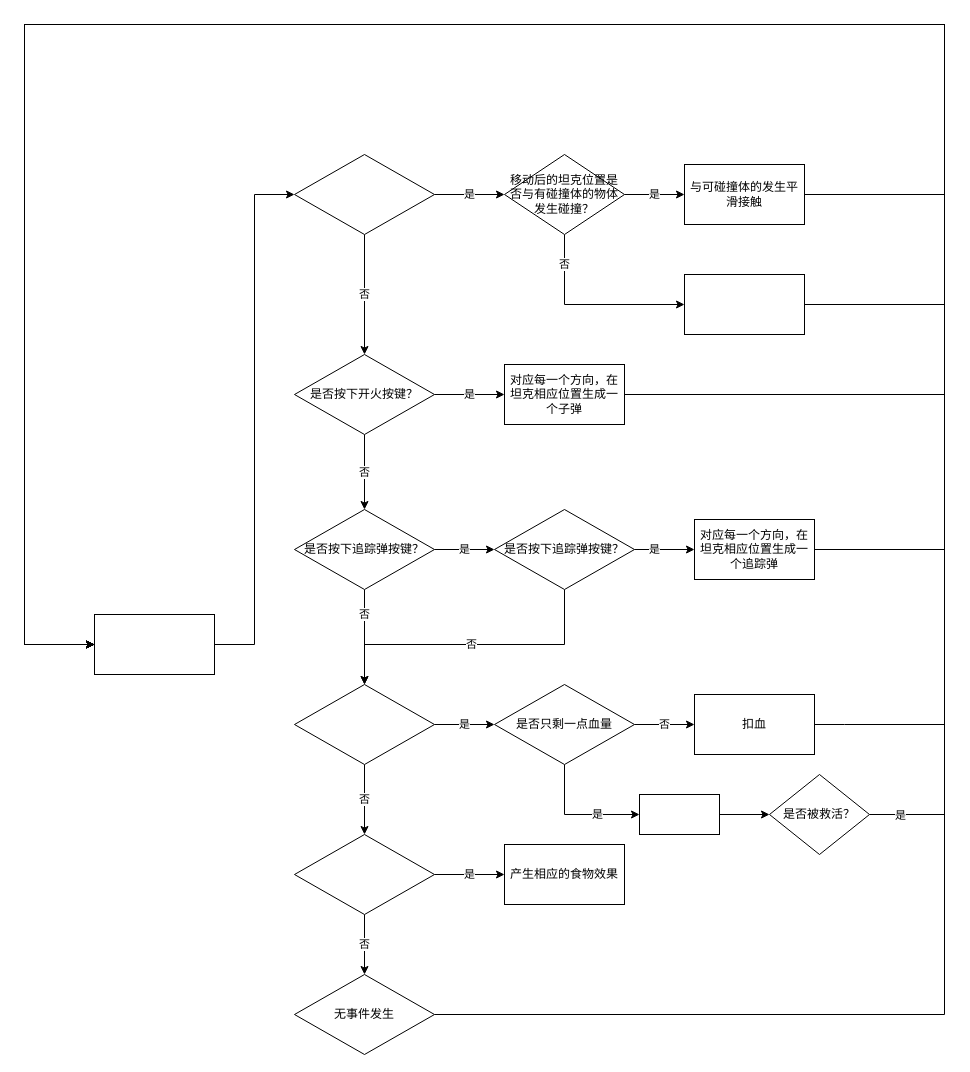
The diagram is 970 pixels wide and 1072 high, and some of its shapes have lost their labels. The shapes that lost their labels are listed below. From the top down, each one's box as (x1, y1, x2, y2) in pixels, then its label:
(294, 154, 434, 234): 是否按下移动按键？
(684, 274, 804, 334): 更新坦克位置
(94, 614, 214, 674): 显示玩家坦克贴图
(294, 684, 434, 764): 是否被攻击？
(638, 794, 720, 834): 死亡
(294, 834, 434, 914): 是否与食物发生碰撞？
